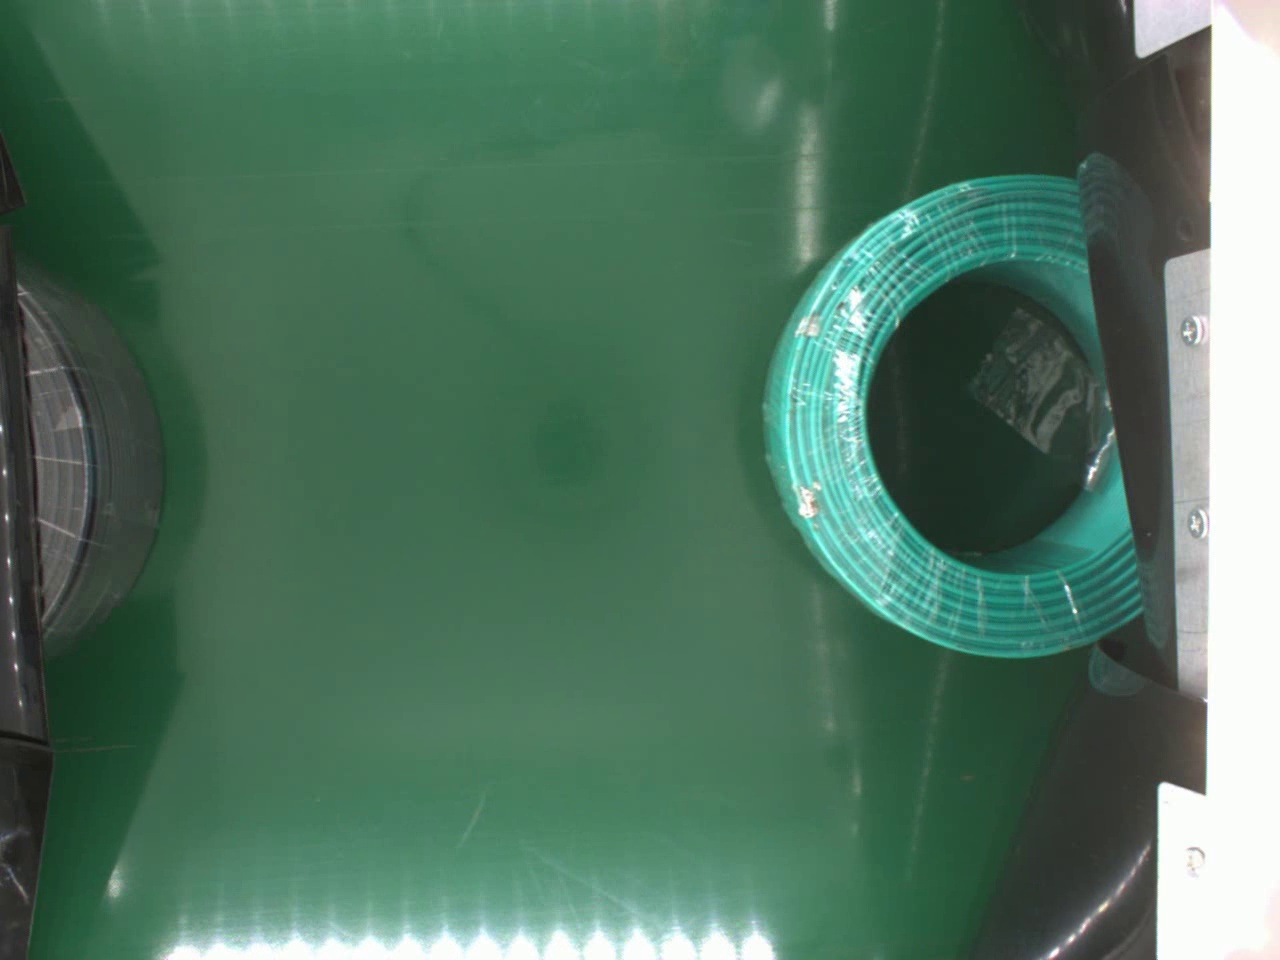black: (12, 257, 162, 640)
green: (761, 167, 1139, 658)
